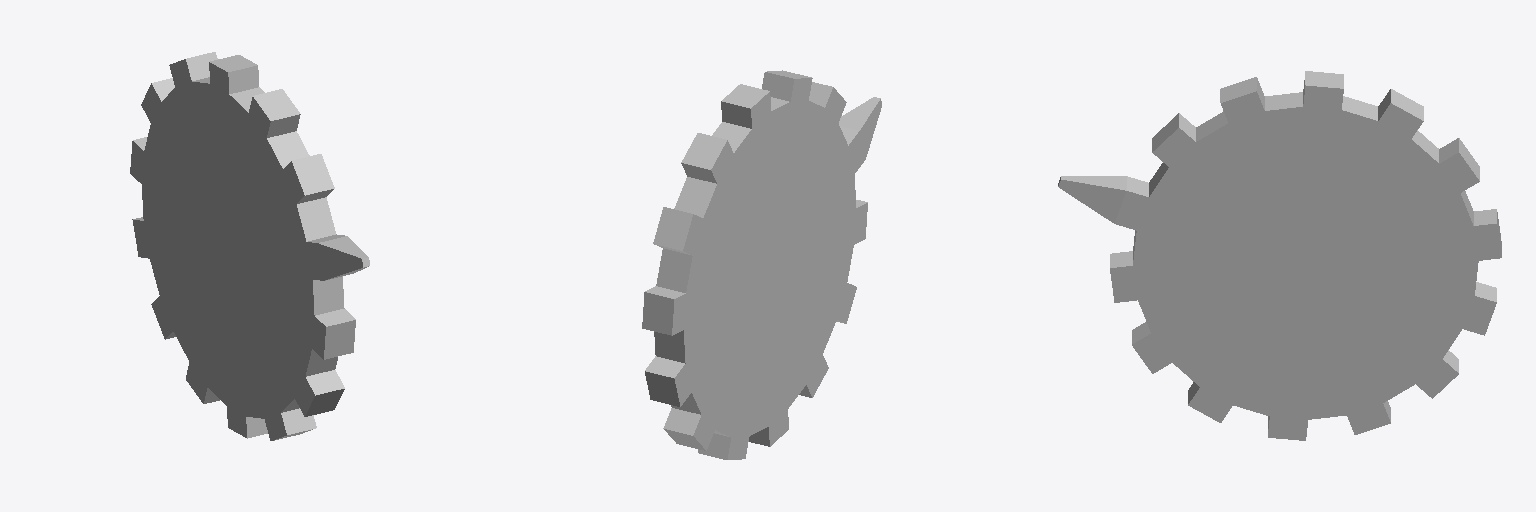
Rendered from gear_000005.obj.
3 views of the same model, side by side, from view 1: azimuth 30°, elevation 25°; view 2: azimuth 150°, elevation 25°; view 3: azimuth 270°, elevation 25° (orthographic).
Visible parts, largest first — view 1: gear_Cylinder.001; view 2: gear_Cylinder.001; view 3: gear_Cylinder.001.
Boxes of the visible parts, box(x1,y1,x2,y2) form: gear_Cylinder.001: box(130, 52, 369, 440); gear_Cylinder.001: box(642, 70, 881, 459); gear_Cylinder.001: box(1058, 71, 1501, 440).
Bounding box in the file's own units: 0.1 × 1.13 × 1.28.